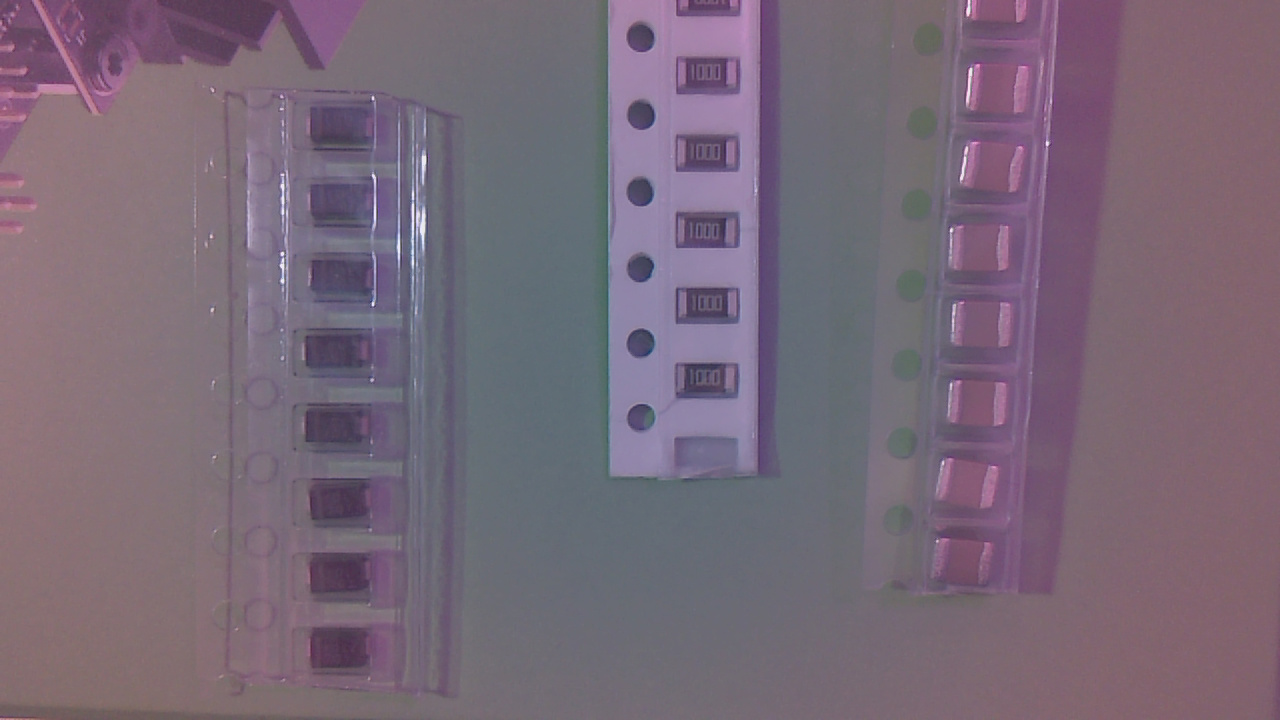Condensator: (955, 301, 1023, 358), (939, 461, 1003, 518), (952, 385, 1018, 438), (970, 68, 1033, 122), (963, 145, 1028, 197), (937, 539, 996, 592), (951, 229, 1013, 279), (971, 7, 1032, 31)
Diode: (310, 108, 384, 151), (306, 333, 377, 377), (310, 633, 379, 676), (305, 407, 374, 449), (309, 485, 380, 525), (313, 260, 381, 300), (307, 562, 387, 596), (312, 186, 378, 224)
Resistor: (676, 367, 745, 403), (681, 140, 746, 177), (679, 217, 742, 254), (680, 62, 744, 95), (679, 293, 743, 324)
